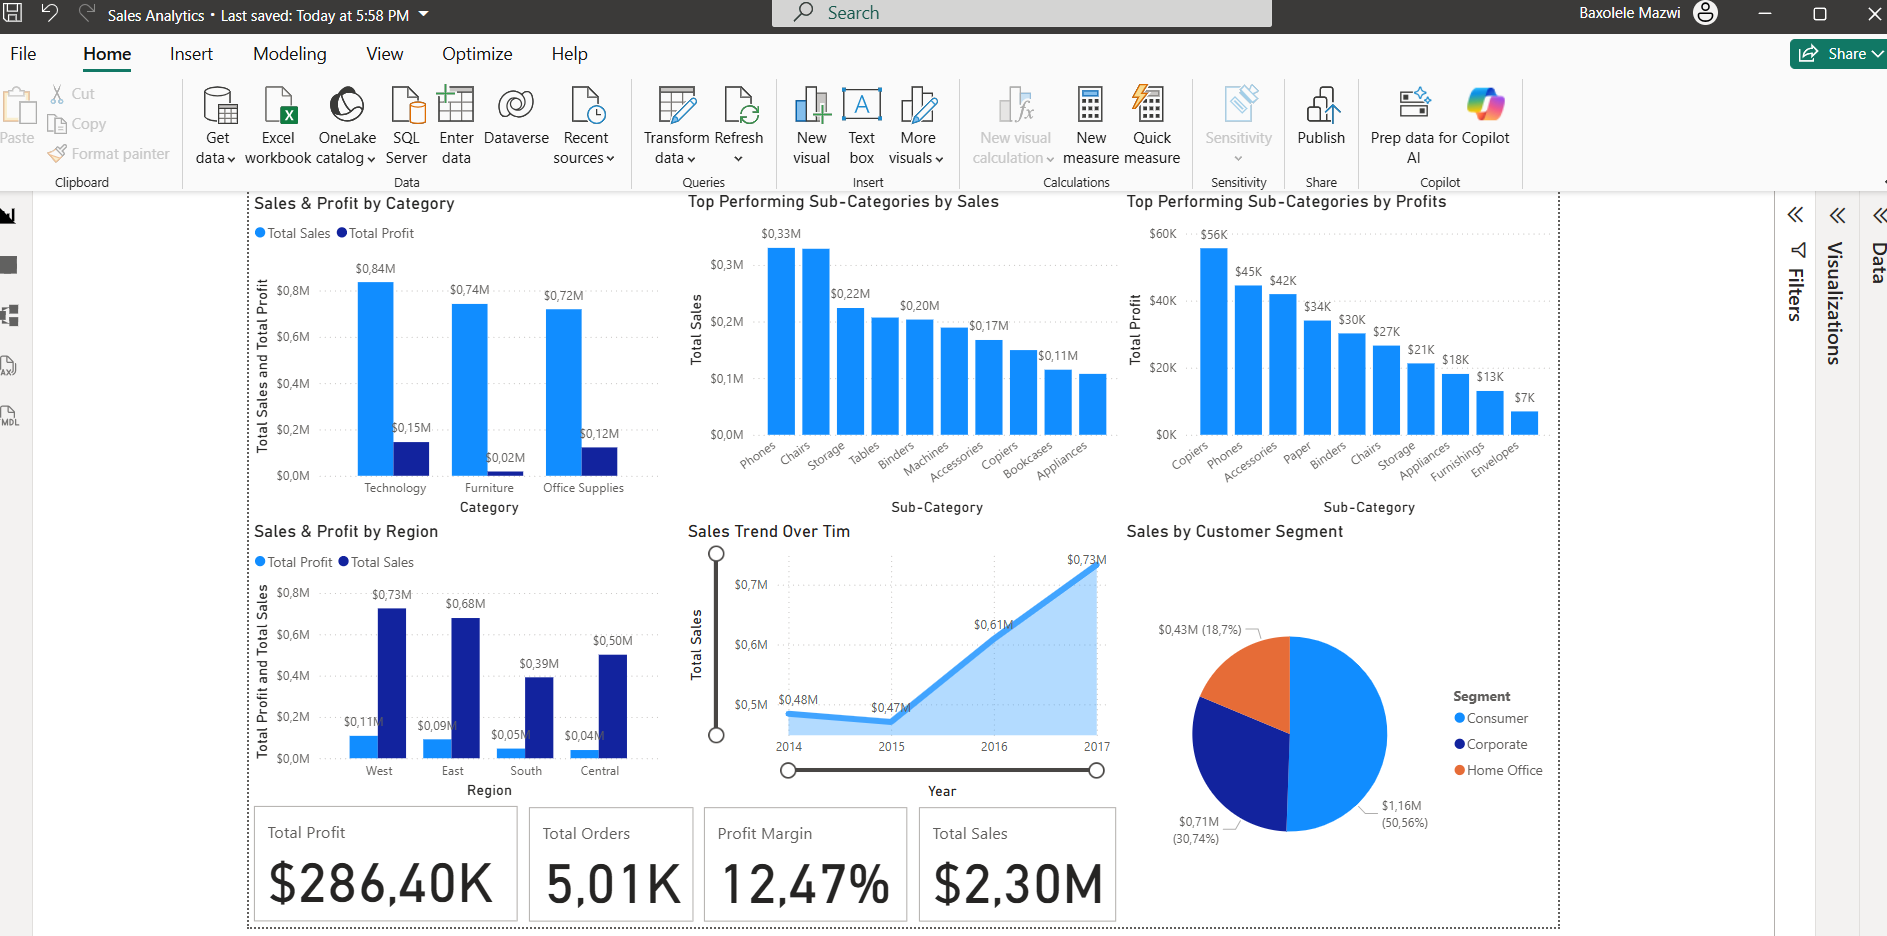

This screenshot's page, from the dashboard's own definition file:
{"tool":"powerbi","page":{"name":"Page 1","canvas":[1280,720],"ordinal":0},"visuals":[{"type":"cardVisual","fields":{"Data":["Sample - Superstore (2).Profit Margin"]},"box":[440.5,598.3,209.9,122.1],"z":0},{"type":"cardVisual","fields":{"Data":["Sample - Superstore (2).Total Orders"]},"box":[269,598.3,171.5,122.1],"z":1000},{"type":"cardVisual","fields":{"Data":["Sample - Superstore (2).Total Profit"]},"box":[0,596.9,269,123.5],"z":2000},{"type":"cardVisual","fields":{"Data":["Sample - Superstore (2).Total Sales"]},"box":[650.4,598.3,203.1,122.1],"z":3000},{"type":"lineChart","title":"Sales Trend Over Tim","fields":{"Category":["Sample - Superstore (2).Order Date.Variation.Date Hierarchy.Year","Sample - Superstore (2).Order Date.Variation.Date Hierarchy.Quarter","Sample - Superstore (2).Order Date.Variation.Date Hierarchy.Month","Sample - Superstore (2).Order Date.Variation.Date Hierarchy.Day"],"Y":["Sample - Superstore (2).Total Sales"]},"box":[424,322.5,422.6,275.8],"z":4000},{"type":"clusteredColumnChart","title":"Sales & Profit by Category","fields":{"Category":["Sample - Superstore (2).Category"],"Y":["Sample - Superstore (2).Total Sales","Sample - Superstore (2).Total Profit"]},"box":[0,1.4,406.2,321.1],"z":5000},{"type":"clusteredColumnChart","title":"Top Performing Sub-Categories by Sales","fields":{"Category":["Sample - Superstore (2).Sub-Category"],"Y":["Sample - Superstore (2).Total Sales"]},"box":[424,0,433.6,322.5],"z":6000},{"type":"clusteredColumnChart","title":"Sales & Profit by Region","fields":{"Category":["Sample - Superstore (2).Region"],"Y":["Sample - Superstore (2).Total Profit","Sample - Superstore (2).Total Sales"]},"box":[0,322.5,406.2,275.8],"z":7000},{"type":"clusteredColumnChart","title":"Top Performing Sub-Categories by Profits","fields":{"Category":["Sample - Superstore (2).Sub-Category"],"Y":["Sample - Superstore (2).Total Profit"]},"box":[853.5,0,426.8,322.5],"z":8000},{"type":"pieChart","title":"Sales by Customer Segment","fields":{"Category":["Sample - Superstore (2).Segment"],"Y":["Sample - Superstore (2).Total Sales"]},"box":[853.5,322.5,426.8,397.9],"z":9000}]}

Visuals, with their boxes on the page's 1280x720 design canvas (x1, y1, x2, y2). These are canvas units, not pixel positions in the 1887x936 screenshot, which may show the page scaled, cropped or inside an application window:
cardVisual - Sample - Superstore (2).Profit Margin: x1=440 y1=598 x2=650 y2=720
cardVisual - Sample - Superstore (2).Total Orders: x1=269 y1=598 x2=440 y2=720
cardVisual - Sample - Superstore (2).Total Profit: x1=0 y1=597 x2=269 y2=720
cardVisual - Sample - Superstore (2).Total Sales: x1=650 y1=598 x2=854 y2=720
"Sales Trend Over Tim" lineChart: x1=424 y1=322 x2=847 y2=598
"Sales & Profit by Category" clusteredColumnChart: x1=0 y1=1 x2=406 y2=322
"Top Performing Sub-Categories by Sales" clusteredColumnChart: x1=424 y1=0 x2=858 y2=322
"Sales & Profit by Region" clusteredColumnChart: x1=0 y1=322 x2=406 y2=598
"Top Performing Sub-Categories by Profits" clusteredColumnChart: x1=854 y1=0 x2=1280 y2=322
"Sales by Customer Segment" pieChart: x1=854 y1=322 x2=1280 y2=720
